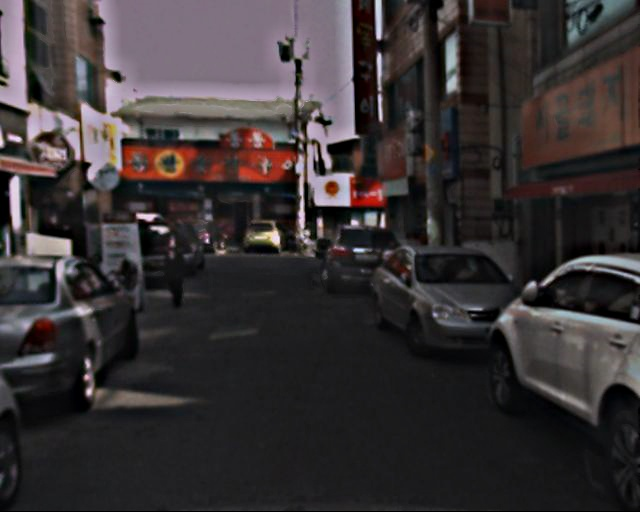person: (157, 219, 197, 308)
